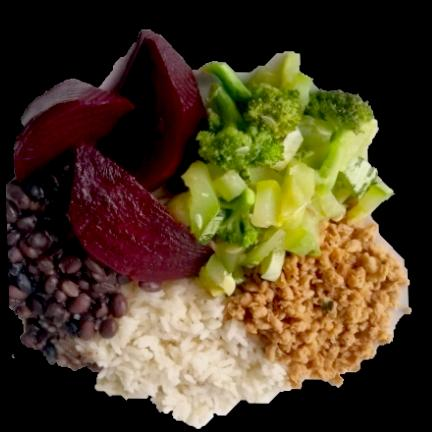beans: (6, 170, 128, 366)
broccoli: (195, 58, 299, 164), (309, 84, 376, 184)
green_vegetables: (180, 128, 324, 268)
meat: (17, 26, 213, 280), (225, 224, 405, 381)
rice: (79, 275, 289, 427)
